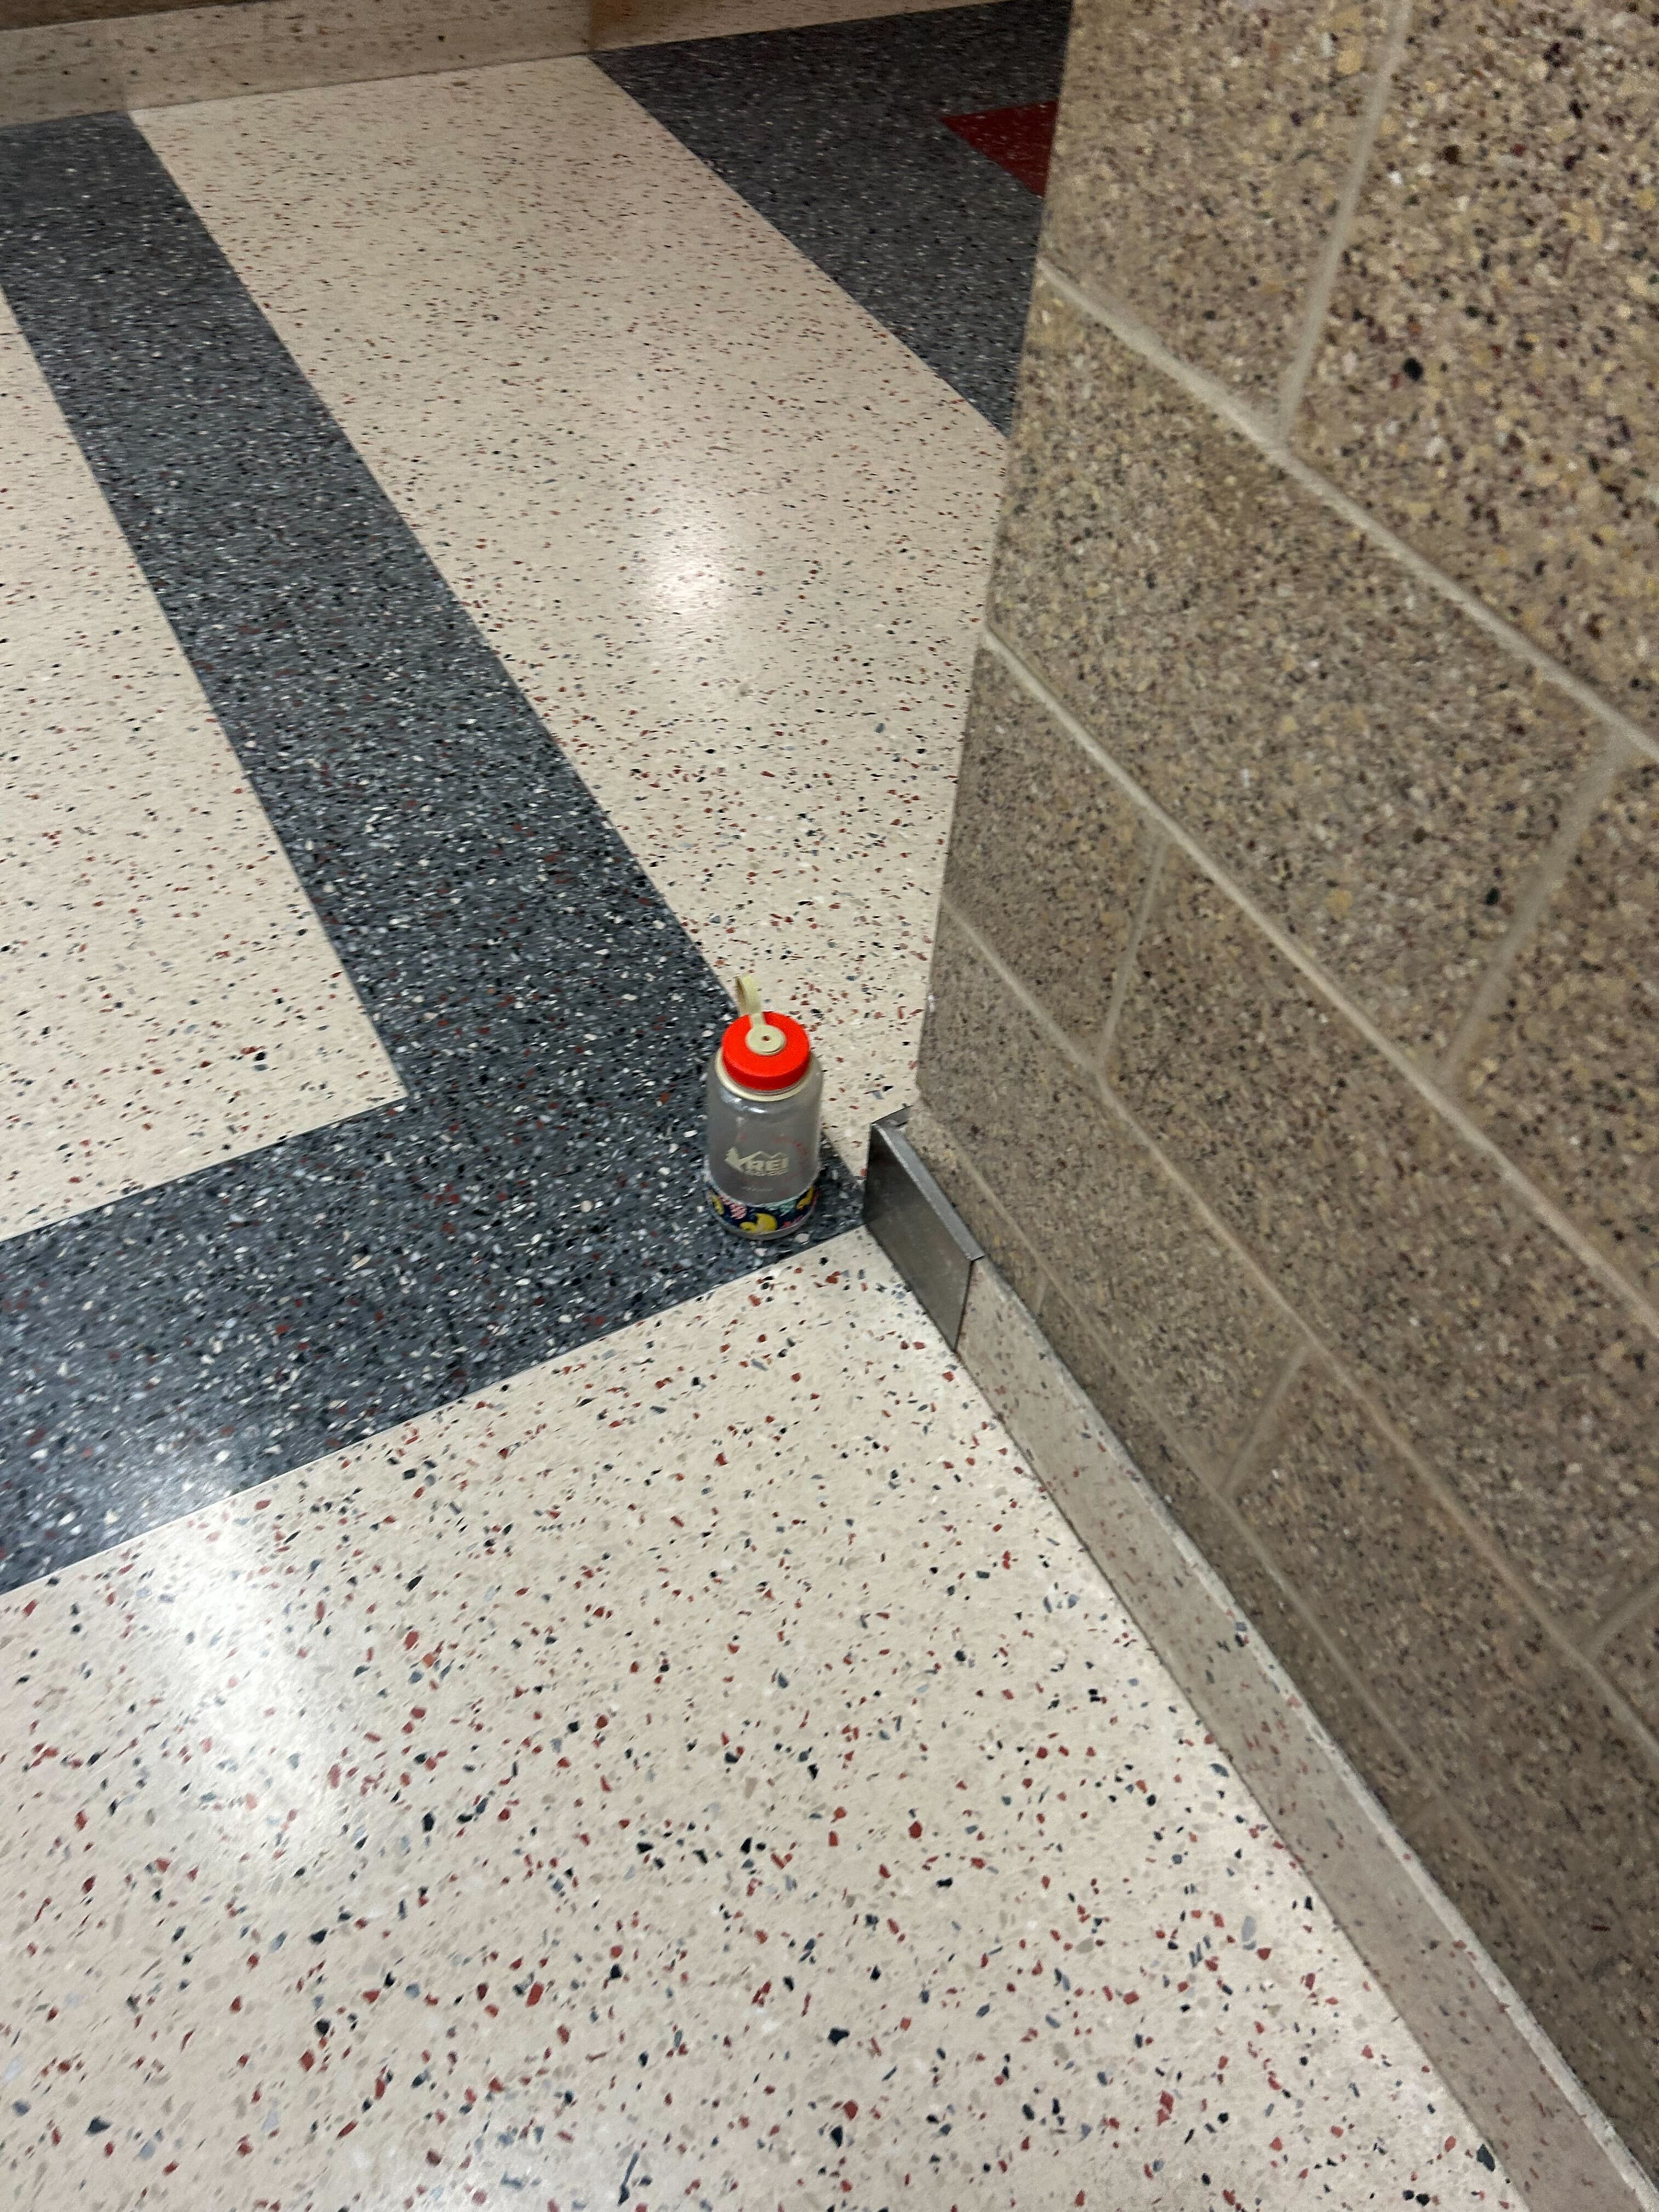bottle: (702, 963, 826, 1249)
